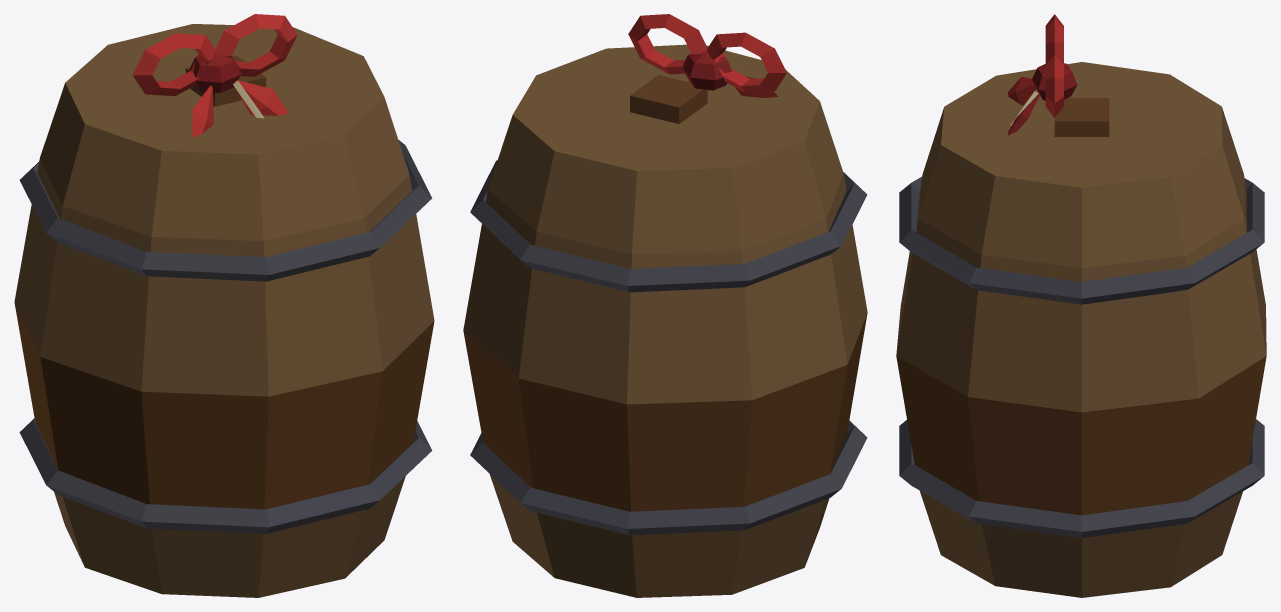
The model's file is quest_cider_barrel.glb.
The picture shows the model from 3 angles, left to right: view 1: azimuth 30°, elevation 25°; view 2: azimuth 150°, elevation 25°; view 3: azimuth 270°, elevation 25°; orthographic projection. The views are drawn at different scales.
Parts seen in each view (by area): view 1: quest_cider_barrel; view 2: quest_cider_barrel; view 3: quest_cider_barrel.
Part boxes in pixels (x1=…): quest_cider_barrel: x1=14, y1=14, x2=434, y2=597; quest_cider_barrel: x1=463, y1=14, x2=867, y2=597; quest_cider_barrel: x1=896, y1=14, x2=1266, y2=597.
Bounding box in the file's own units: 0.3335 × 0.4573 × 0.3151.
